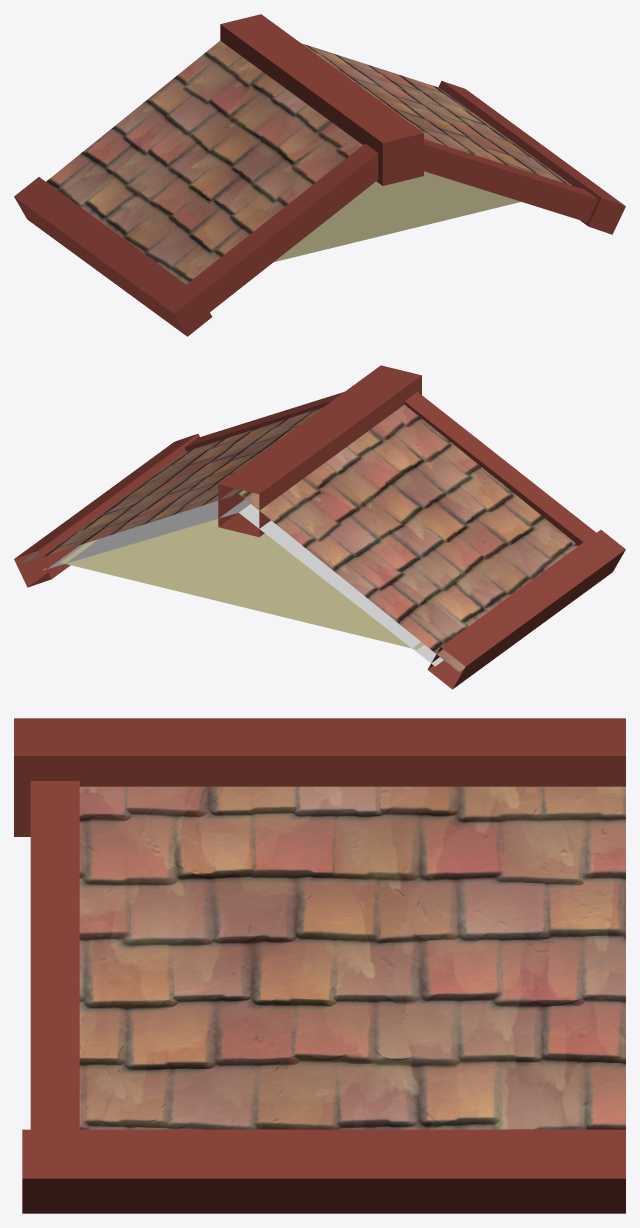
Rendered from roof_6x2x4_head.fbx.
3 renders of one model, top to bottom at view 1: azimuth 30°, elevation 25°; view 2: azimuth 150°, elevation 25°; view 3: azimuth 270°, elevation 25°, orthographic. The views are drawn at different scales.
Parts seen in each view (by area): view 1: roof_6x2x4_head; view 2: roof_6x2x4_head; view 3: roof_6x2x4_head.
Boxes of the visible parts, box(x1,y1,x2,y2) form: roof_6x2x4_head: box(14, 14, 625, 336); roof_6x2x4_head: box(14, 365, 625, 689); roof_6x2x4_head: box(14, 718, 625, 1213).
Bounding box in the file's own units: 758 × 241 × 473.
